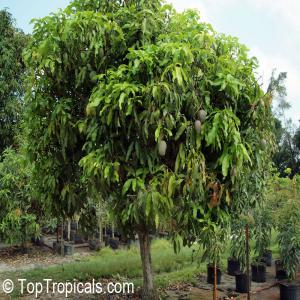Tree: (20, 2, 276, 292)
